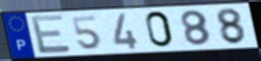0: (144, 10, 176, 49)
4: (113, 12, 140, 51)
5: (69, 15, 103, 51)
8: (215, 7, 249, 46), (179, 9, 212, 47)
E: (28, 13, 73, 56)
